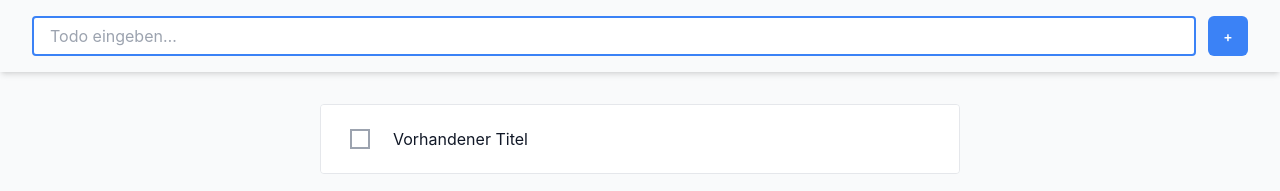
it: FEAT-4 – Todo bearbeiten (Inline-Editing) › Input enthält bestehenden Titel beim Öffnen
Double-click the button "Vorhandener Titel" at (460, 139), box [393, 129, 528, 149]
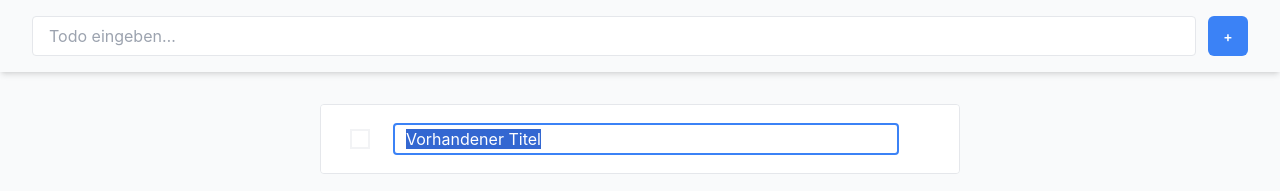
Result: the field named "todo-titel bearbeiten" holds "Vorhandener Titel" at [393, 123, 899, 155]
